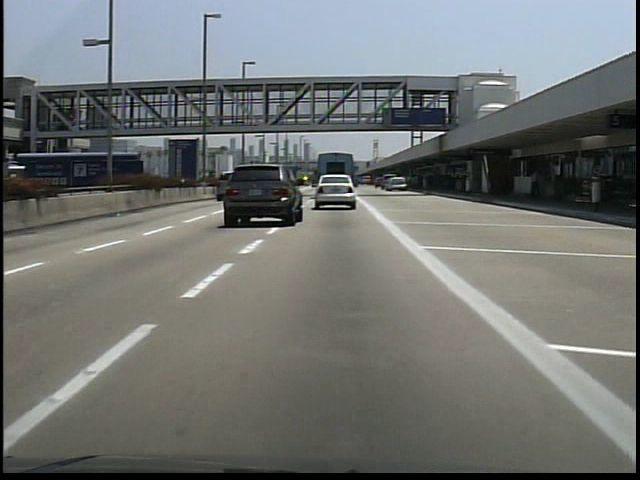person: (525, 168, 546, 205)
